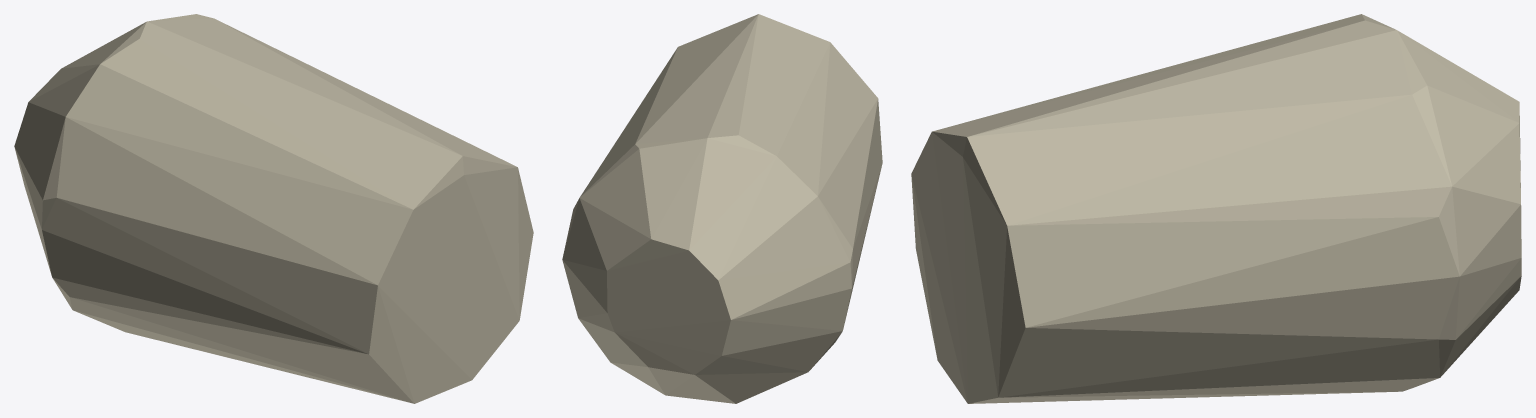
The model's file is airSystem_air_filter_c01.glb.
3 renders of one model, left to right at view 1: azimuth 30°, elevation 25°; view 2: azimuth 150°, elevation 25°; view 3: azimuth 270°, elevation 25°, orthographic. The views are drawn at different scales.
Visible parts, largest first — view 1: geometry_0; view 2: geometry_0; view 3: geometry_0.
Boxes of the visible parts, x1,y1,x2,y2 form: geometry_0: (14, 14, 533, 403); geometry_0: (562, 14, 882, 403); geometry_0: (911, 14, 1521, 403).
Bounding box in the file's own units: 0.374 × 0.2936 × 0.4783.
